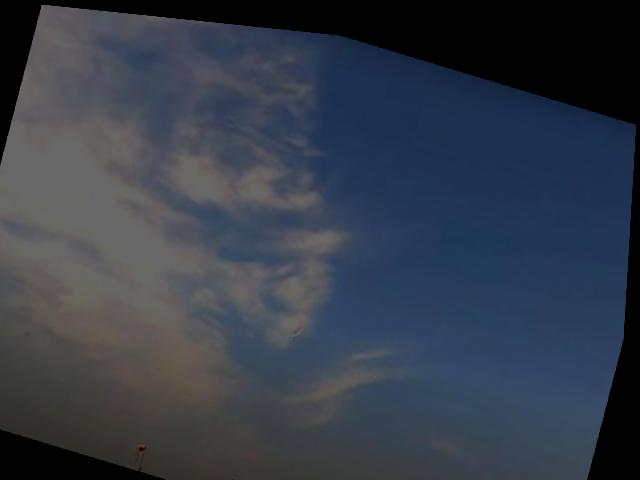iha: (294, 318, 307, 332)
